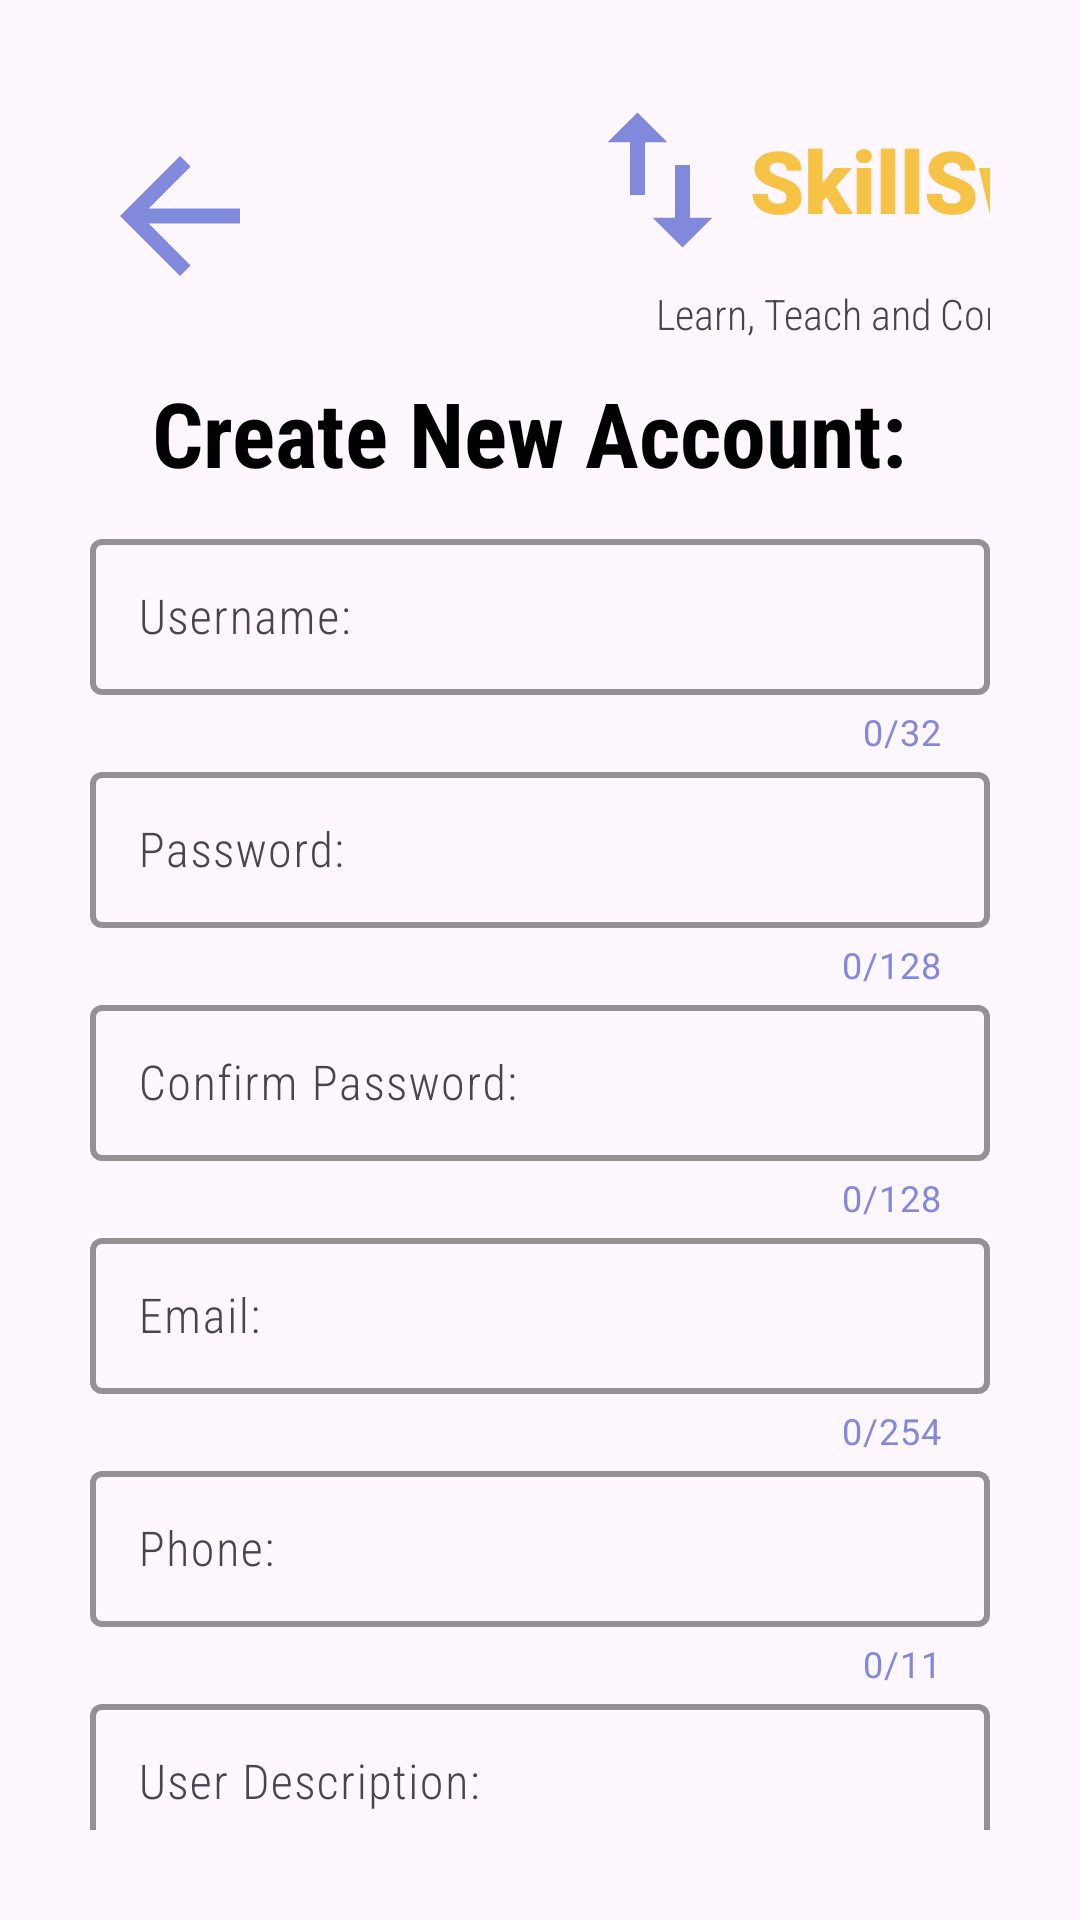

Icons on this 1080 x 1920 Android screen, each with its box as (x1, y1, x2, y2):
arrow back: (120, 156, 240, 276)
swap vert: (608, 112, 712, 248)
